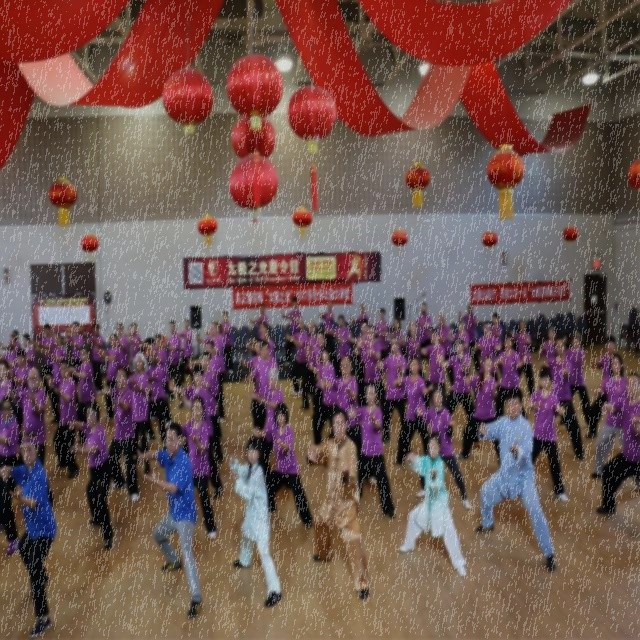pessoa: (473, 383, 559, 574), (134, 423, 205, 620), (0, 429, 64, 639), (303, 406, 372, 600), (396, 428, 468, 580), (228, 432, 286, 610), (250, 399, 316, 534), (316, 352, 378, 490), (166, 362, 224, 498), (413, 382, 473, 512), (66, 397, 114, 552), (346, 380, 396, 520), (596, 370, 640, 517), (99, 362, 142, 504), (525, 366, 569, 504), (539, 338, 585, 460), (180, 394, 218, 540), (456, 354, 504, 468), (435, 336, 483, 449), (372, 332, 415, 457), (590, 350, 630, 480), (392, 352, 436, 468), (41, 354, 80, 480), (584, 334, 628, 441), (3, 367, 48, 469), (186, 350, 225, 466), (246, 367, 285, 482), (132, 332, 174, 432), (240, 338, 280, 436), (193, 320, 227, 425), (0, 393, 21, 558), (494, 331, 530, 424), (1, 346, 34, 447), (242, 339, 278, 431), (286, 318, 322, 409), (125, 352, 151, 476), (308, 344, 339, 447), (352, 322, 388, 410), (346, 317, 379, 409), (34, 330, 66, 424), (94, 332, 124, 420), (564, 330, 592, 424), (143, 345, 168, 448), (420, 326, 448, 410), (67, 344, 96, 423), (186, 338, 222, 399), (28, 322, 58, 395), (162, 318, 186, 409), (510, 317, 536, 398), (305, 329, 328, 416), (285, 316, 310, 396), (324, 313, 352, 379), (458, 302, 482, 376), (280, 296, 303, 368), (83, 321, 105, 396), (472, 319, 502, 373), (400, 322, 425, 379), (537, 324, 558, 390), (436, 312, 454, 388), (446, 317, 472, 368), (178, 317, 196, 385), (414, 302, 432, 366), (66, 319, 88, 368), (374, 306, 388, 381), (490, 310, 503, 390), (382, 314, 406, 354), (220, 310, 234, 375), (247, 302, 270, 340), (114, 321, 130, 367), (0, 360, 14, 404), (0, 328, 23, 354), (260, 324, 276, 361), (318, 300, 336, 332), (22, 332, 36, 370), (0, 328, 22, 351), (129, 322, 141, 360), (354, 301, 370, 326), (215, 321, 225, 349), (257, 320, 267, 340)
